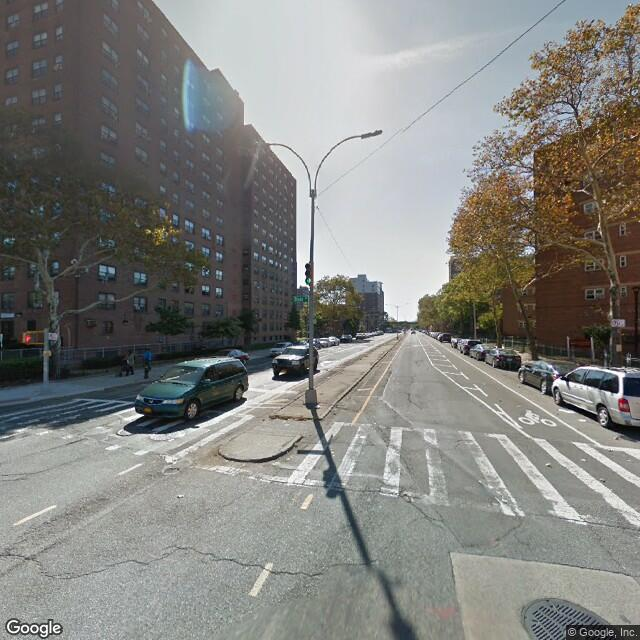litter: (556, 407, 577, 415), (174, 490, 184, 499), (577, 416, 587, 423), (578, 457, 586, 463)
